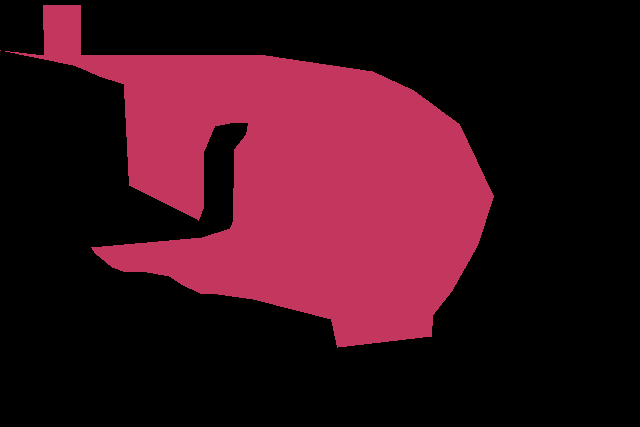Airplane: (0, 5, 493, 348)
